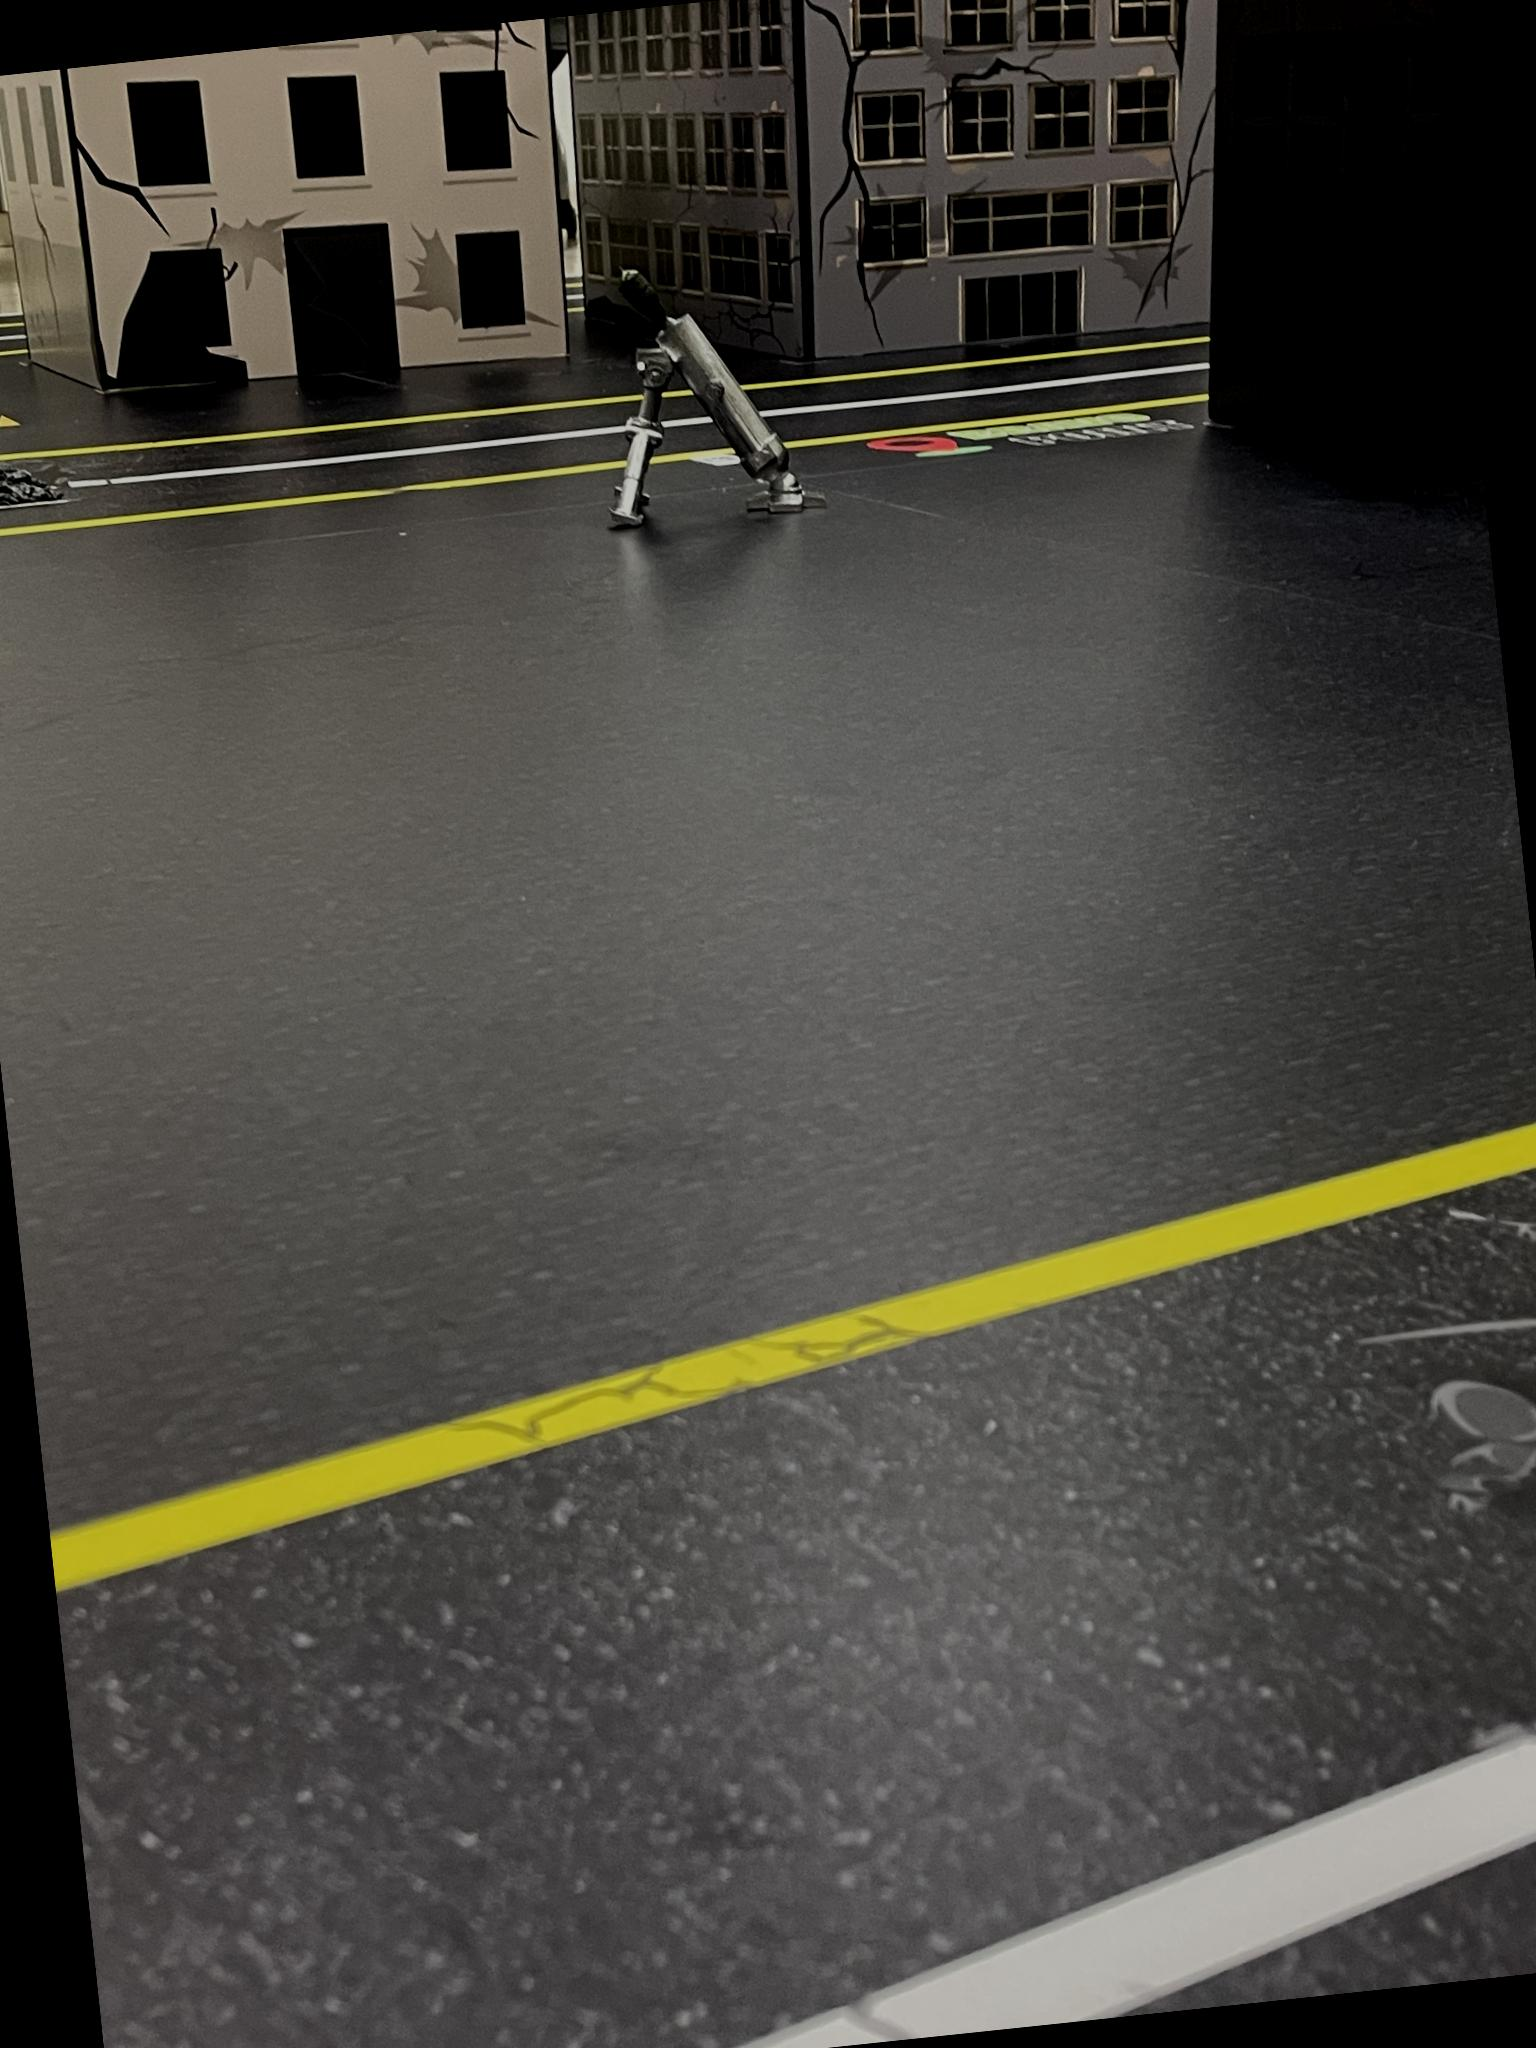Mortar: (582, 247, 823, 534)
